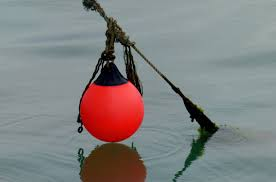buoy: (80, 81, 146, 144)
